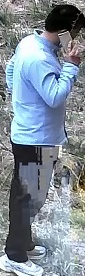phone: (45, 3, 84, 112)
